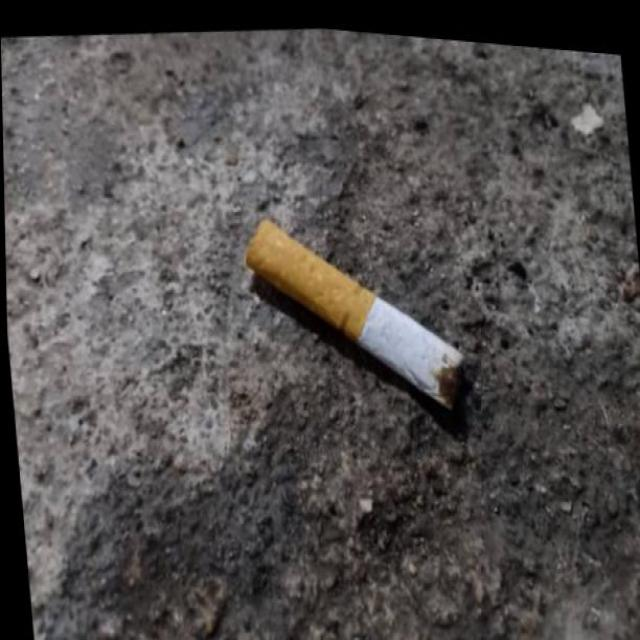cigarette: (235, 183, 476, 432)
